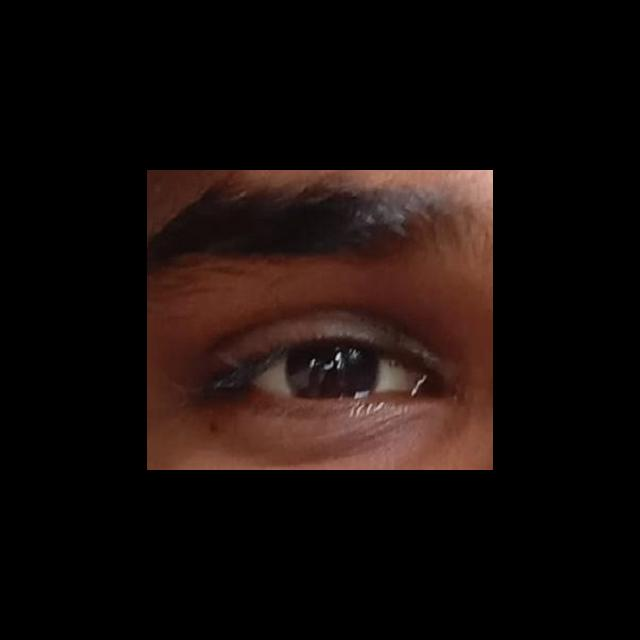eye: (252, 340, 411, 401)
iris: (287, 344, 378, 399)
